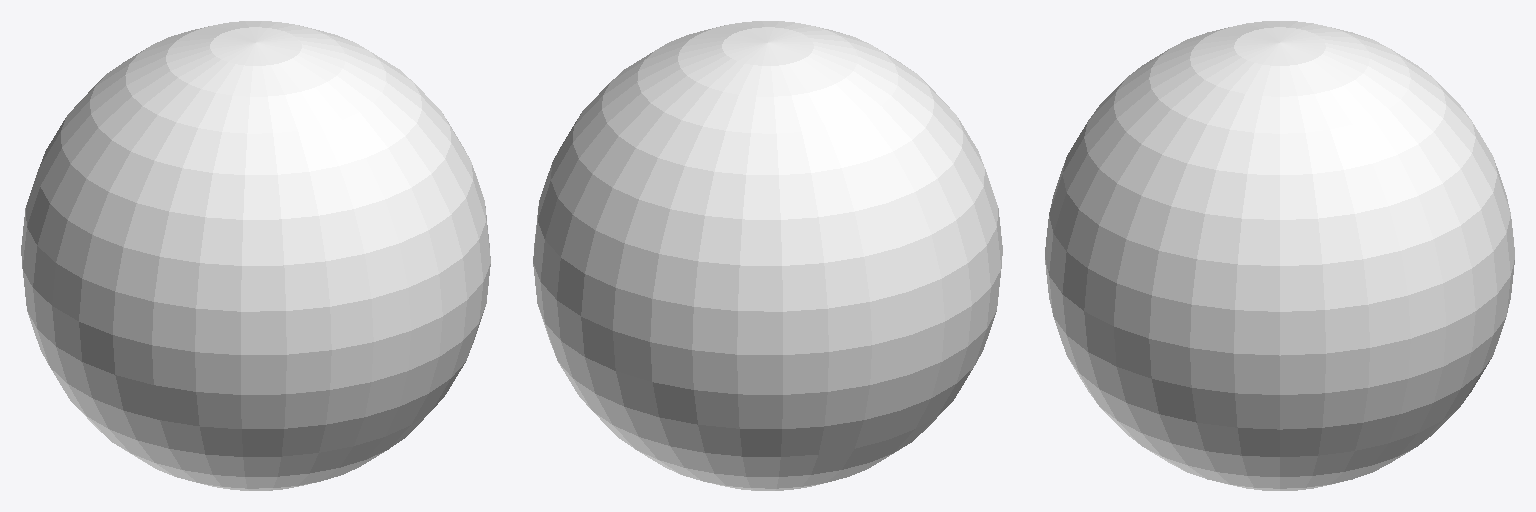
3 renders of one model, left to right at view 1: azimuth 30°, elevation 25°; view 2: azimuth 150°, elevation 25°; view 3: azimuth 270°, elevation 25°, orthographic.
Parts seen in each view (by area): view 1: Sphere; view 2: Sphere; view 3: Sphere.
Part boxes in pixels (x1,y1,x2,y2): Sphere: (21,21,490,490); Sphere: (533,21,1002,490); Sphere: (1045,21,1514,490).
Bounding box in the file's own units: 3.04 × 3.04 × 3.04.
1 materials, 1 textured.